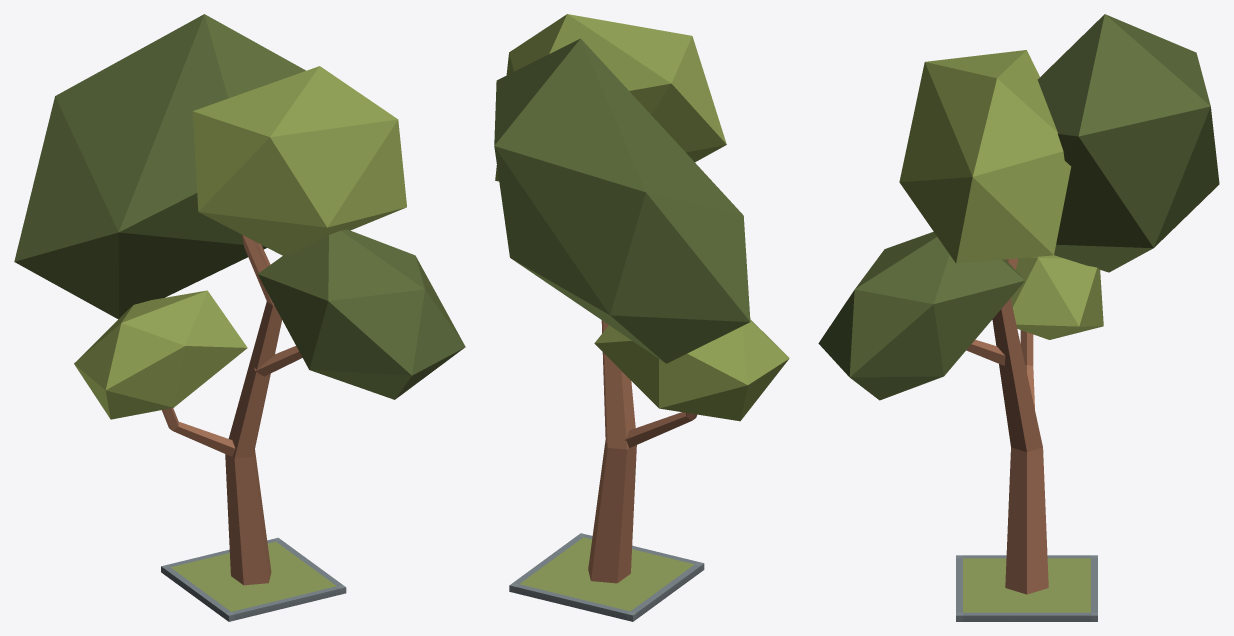
File: Tree_1.glb
3 renders of one model, left to right at view 1: azimuth 30°, elevation 25°; view 2: azimuth 150°, elevation 25°; view 3: azimuth 270°, elevation 25°, orthographic. The views are drawn at different scales.
Visible parts, largest first — view 1: tree01.001, base.002; view 2: tree01.001, base.002; view 3: tree01.001, base.002.
Part boxes in pixels (box(x1,y1,x2,y2)): tree01.001: box(14, 14, 465, 585); base.002: box(161, 537, 346, 621); tree01.001: box(494, 14, 789, 583); base.002: box(509, 533, 704, 621); tree01.001: box(818, 14, 1219, 594); base.002: box(956, 555, 1097, 621).
Bounding box in the file's own units: 0.8982 × 1.48 × 0.9428.
3 materials, 2 textured.
